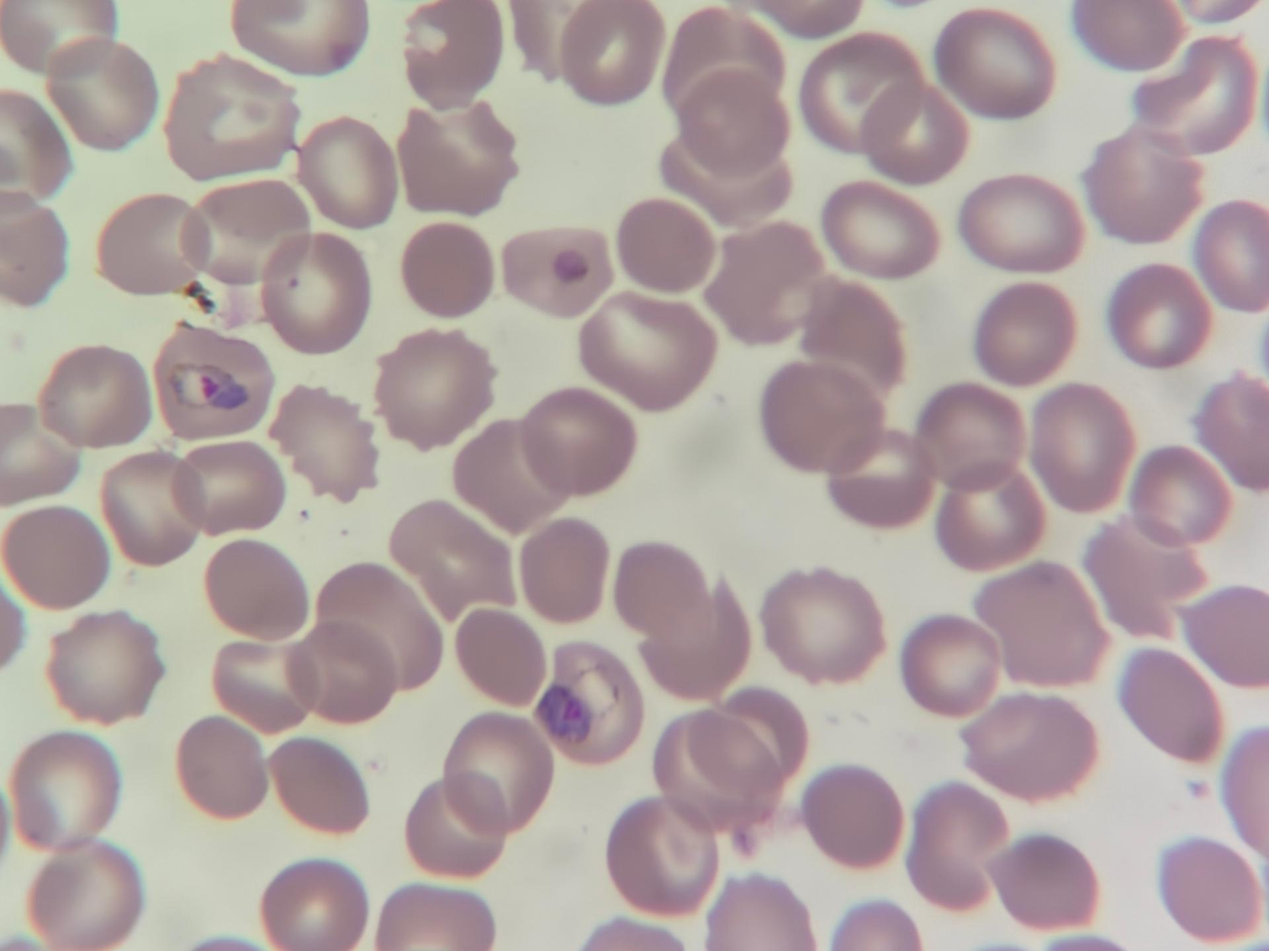Infected: (155, 323, 276, 439), (539, 641, 646, 768)
Uninfected: (310, 562, 435, 692), (386, 499, 514, 625), (974, 563, 1104, 687), (165, 63, 300, 181), (579, 293, 711, 411), (704, 218, 828, 342), (1137, 35, 1259, 159), (1082, 124, 1206, 243), (1084, 517, 1205, 636), (961, 692, 1094, 800), (658, 711, 784, 825), (373, 326, 493, 445), (801, 33, 921, 151), (440, 715, 553, 839), (759, 568, 879, 684), (257, 231, 371, 353), (666, 7, 784, 124), (759, 359, 879, 474), (397, 106, 518, 218), (10, 731, 121, 851), (1027, 383, 1133, 507), (184, 179, 308, 285), (904, 782, 1009, 907), (43, 610, 159, 722), (604, 799, 716, 915), (41, 38, 157, 149), (452, 421, 561, 538), (914, 383, 1027, 494), (268, 387, 378, 501), (679, 65, 787, 181), (37, 343, 153, 451), (519, 389, 631, 500), (957, 177, 1084, 274), (798, 276, 906, 390), (1117, 648, 1221, 763), (937, 14, 1054, 116), (613, 541, 719, 652), (27, 845, 141, 948), (821, 181, 937, 279), (204, 535, 310, 642), (102, 450, 203, 562), (3, 502, 108, 609), (798, 763, 904, 868), (859, 84, 968, 186), (402, 0, 503, 110), (228, 0, 371, 77), (519, 514, 617, 626), (983, 832, 1095, 930), (558, 0, 664, 103), (176, 441, 286, 540), (646, 593, 749, 698), (1109, 261, 1210, 368), (501, 226, 615, 320), (1157, 837, 1261, 939), (302, 118, 395, 231), (974, 281, 1077, 383), (97, 195, 199, 298), (1127, 443, 1227, 546), (935, 476, 1045, 569), (268, 734, 370, 834), (259, 860, 369, 951), (399, 220, 498, 321), (176, 715, 271, 820), (615, 197, 715, 296), (900, 616, 1000, 715), (454, 604, 549, 706), (405, 782, 507, 876), (1177, 586, 1269, 690), (1192, 373, 1269, 488), (211, 640, 305, 734), (828, 447, 932, 529), (1071, 0, 1184, 74), (703, 874, 812, 950), (0, 90, 72, 204), (375, 882, 490, 951), (1195, 204, 1269, 311), (0, 200, 71, 311), (0, 408, 80, 506), (0, 0, 117, 66), (1221, 728, 1269, 862), (505, 1, 580, 84), (734, 1, 860, 39), (830, 900, 919, 951), (1187, 0, 1262, 24)
